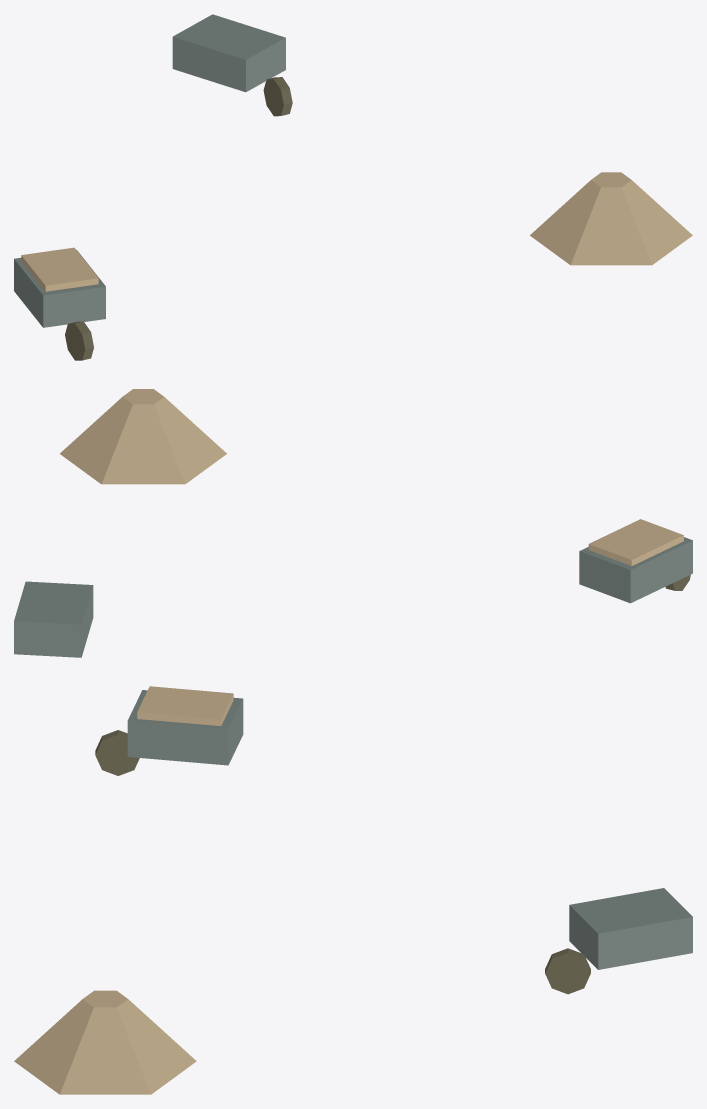
File: SM_ObraHerramientas_v2_10m_LOD1.fbx
3 views of the same model, one above another, from view 1: azimuth 30°, elevation 25°; view 2: azimuth 150°, elevation 25°; view 3: azimuth 270°, elevation 25° (orthographic). The views are drawn at different scales.
Visible parts, largest first — view 1: SM_obra_curso_v15_LOD1; view 2: SM_obra_curso_v15_LOD1; view 3: SM_obra_curso_v15_LOD1.
Boxes of the visible parts, bbox=[...] form: SM_obra_curso_v15_LOD1: bbox=[14, 14, 692, 360]; SM_obra_curso_v15_LOD1: bbox=[14, 389, 692, 657]; SM_obra_curso_v15_LOD1: bbox=[14, 686, 692, 1094].
Size of the model in its own units: 6.93 by 0.74 by 5.94.
